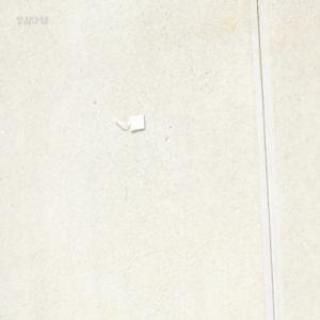LuggageTagtrack_idkeyframe: (112, 112, 144, 131)
